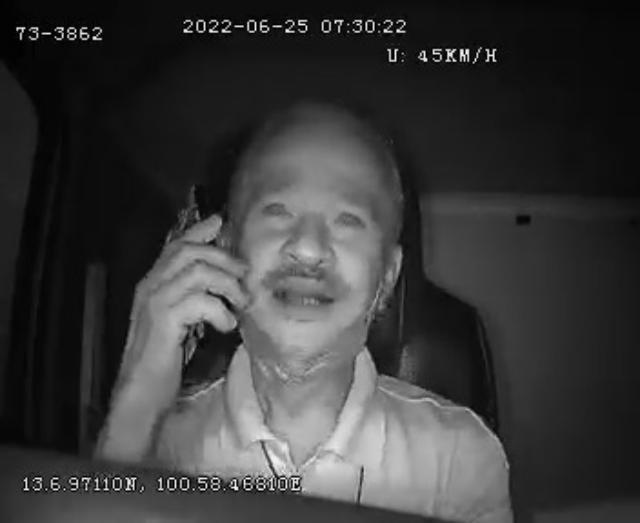PhoneUse: (166, 184, 222, 368)
SafeDriving: (324, 194, 374, 240), (254, 186, 302, 227)
